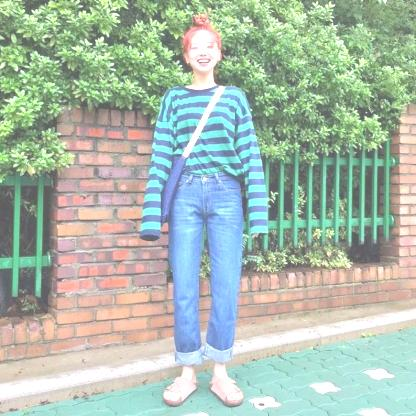dress: (144, 78, 274, 242), (168, 168, 246, 368)
